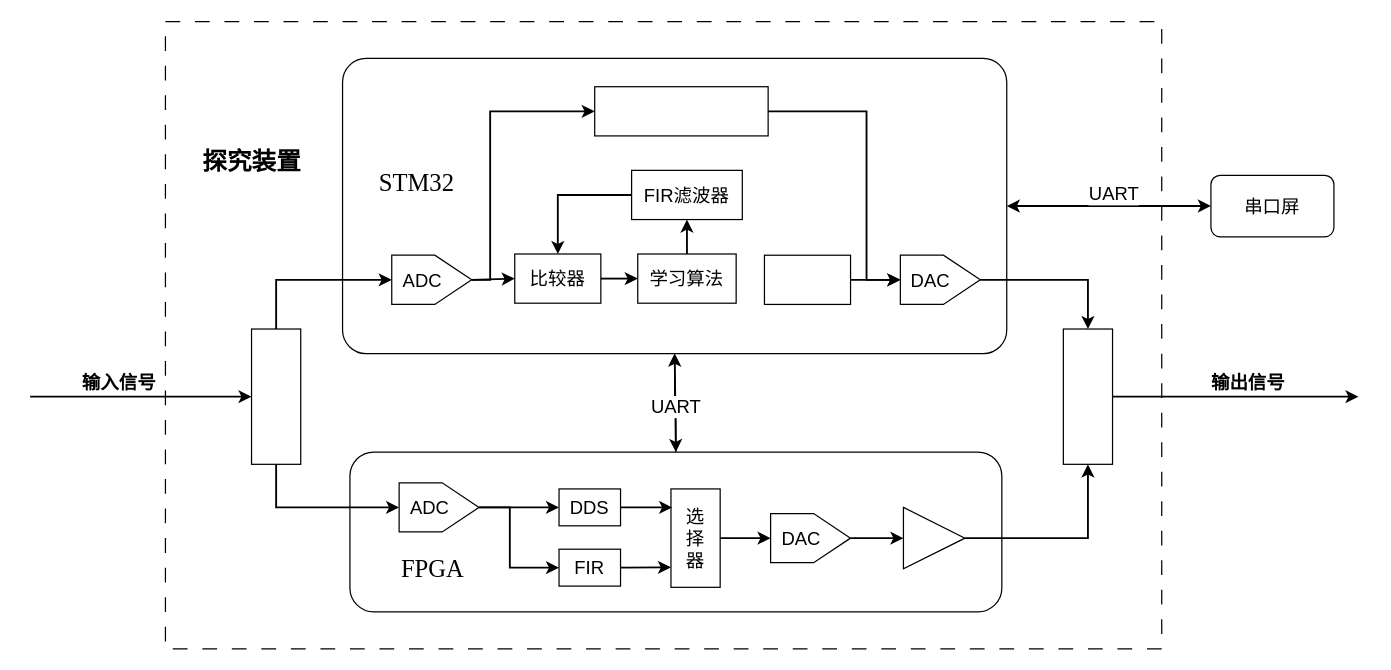
Image size: 1391x670. Some labels were removed from this diagram. Each missing label, with the box of its shape:
AMP: (902, 506, 965, 569)
已知模型 响应函数: (593, 85, 768, 136)
探测信号: (763, 254, 851, 304)
输 入 选 择 器: (250, 328, 301, 464)
输 出 选 择 器: (1062, 328, 1113, 464)
